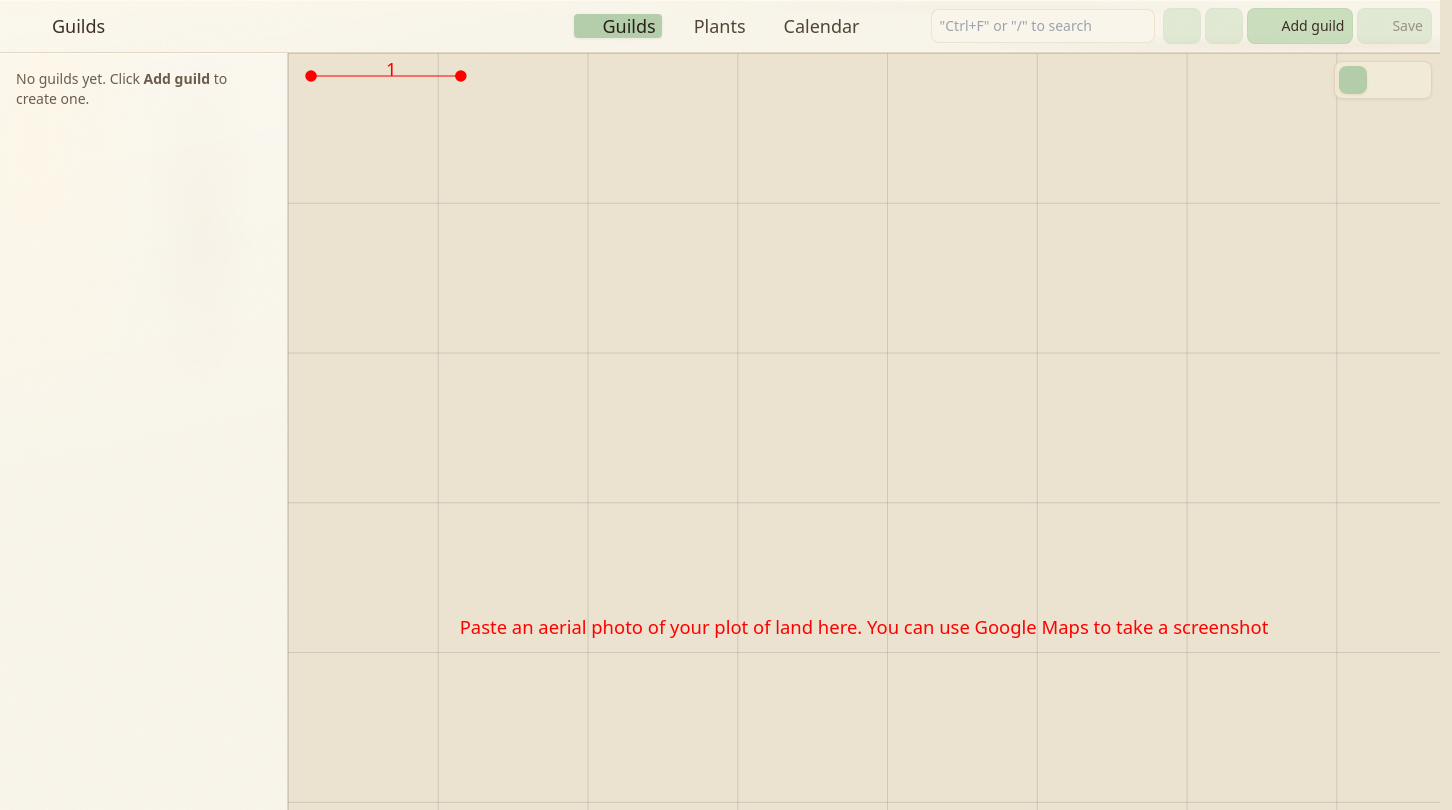
add guild navigates with the new guild in the route
Click the button "Add guild" at [1300, 26], box [1246, 8, 1353, 44]
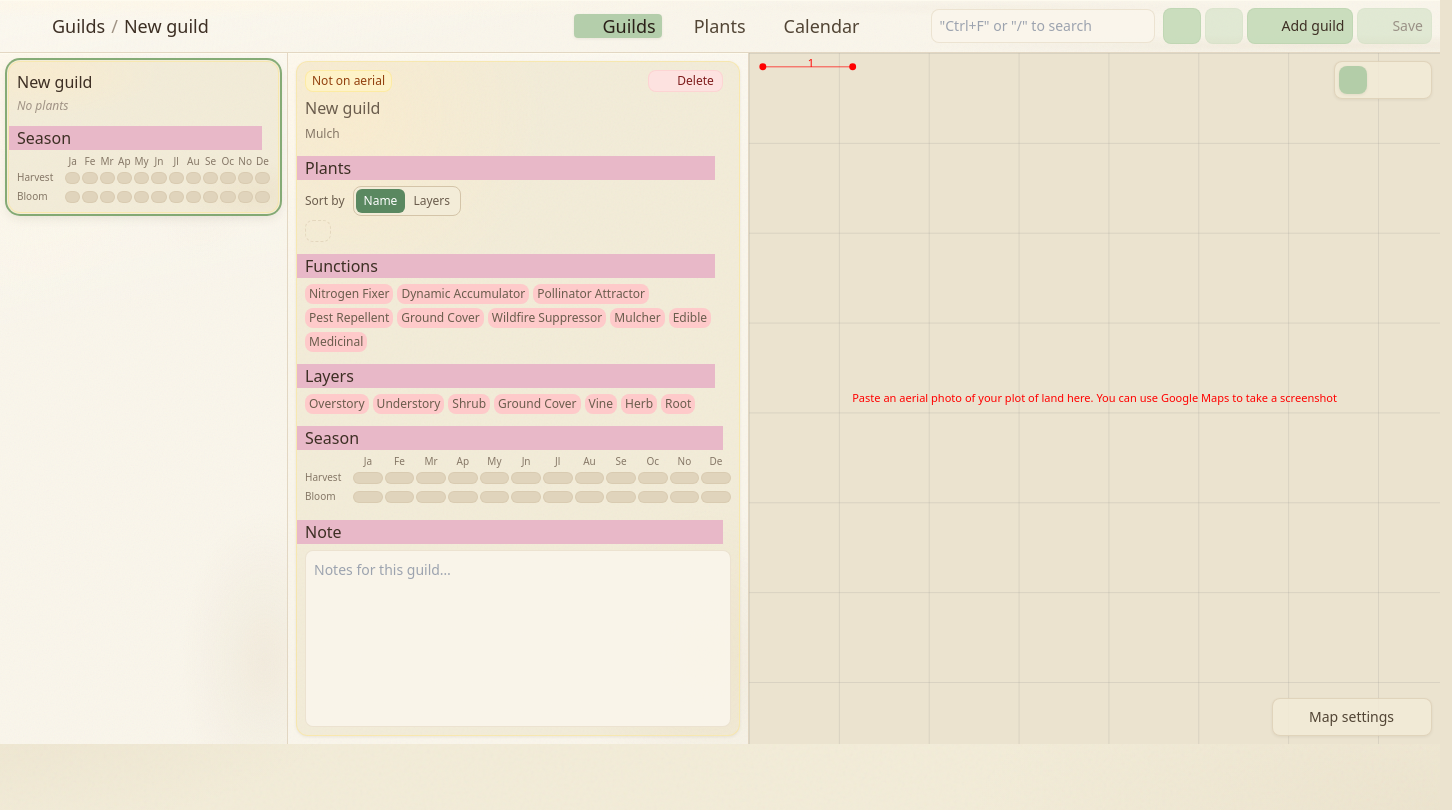
Now the button "Delete" is shown, box [648, 70, 723, 92]
